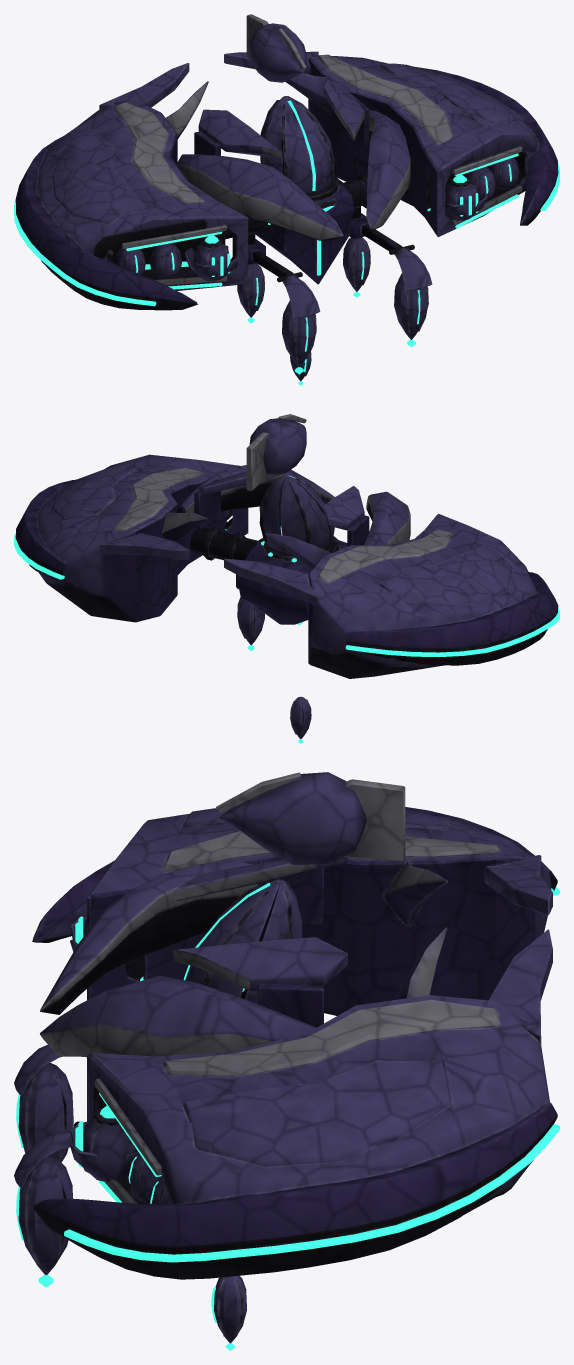
The model's file is the-veil-v5-remodel.glb.
3 views of the same model, one above another, from view 1: azimuth 30°, elevation 25°; view 2: azimuth 150°, elevation 25°; view 3: azimuth 270°, elevation 25° (orthographic). The views are drawn at different scales.
Parts seen in each view (by area): view 1: veil_hull, veil_heart_shutter_3, veil_heart_shutter_0, veil_drop_pod_2, veil_drop_pod_0, veil_drop_pod_3, veil_bay_door_left, veil_bay_door_right, veil_pod_left, veil_drop_pod_1, veil_pod_right, veil_pod_left_wreck (+1 smaller); view 2: veil_hull, veil_heart_shutter_2, veil_heart_shutter_1, veil_drop_pod_3, veil_flight_pod, veil_heart_shutter_3; view 3: veil_hull, veil_drop_pod_2, veil_drop_pod_0, veil_heart_shutter_0, veil_pod_right, veil_flight_pod, veil_heart_shutter_1, veil_bay_door_right, veil_pod_right_wreck, veil_bay_door_left.
Part boxes in pixels (<box>): veil_hull: <box>14,14,559,310</box>; veil_heart_shutter_3: <box>264,97,314,193</box>; veil_heart_shutter_0: <box>286,96,334,191</box>; veil_drop_pod_2: <box>394,273,428,346</box>; veil_drop_pod_0: <box>282,300,316,374</box>; veil_drop_pod_3: <box>343,237,370,297</box>; veil_bay_door_left: <box>277,272,320,318</box>; veil_bay_door_right: <box>389,244,432,290</box>; veil_pod_left: <box>193,235,230,279</box>; veil_drop_pod_1: <box>237,263,264,323</box>; veil_pod_right: <box>445,175,478,219</box>; veil_pod_left_wreck: <box>184,245,238,281</box>; veil_hull: <box>14,414,559,678</box>; veil_heart_shutter_2: <box>280,477,330,554</box>; veil_heart_shutter_1: <box>259,476,285,552</box>; veil_drop_pod_3: <box>237,597,264,650</box>; veil_flight_pod: <box>290,696,311,743</box>; veil_heart_shutter_3: <box>286,475,334,548</box>; veil_hull: <box>32,772,559,1279</box>; veil_drop_pod_2: <box>16,1155,72,1287</box>; veil_drop_pod_0: <box>16,1063,73,1162</box>; veil_heart_shutter_0: <box>184,881,279,997</box>; veil_pod_right: <box>75,1105,137,1179</box>; veil_flight_pod: <box>211,1275,246,1350</box>; veil_heart_shutter_1: <box>244,881,302,1003</box>; veil_bay_door_right: <box>14,1121,79,1188</box>; veil_pod_right_wreck: <box>70,1121,138,1182</box>; veil_bay_door_left: <box>14,1044,62,1096</box>.
Bounding box in the file's own units: 12.48 × 8.16 × 6.99.
2 materials, 1 textured.
